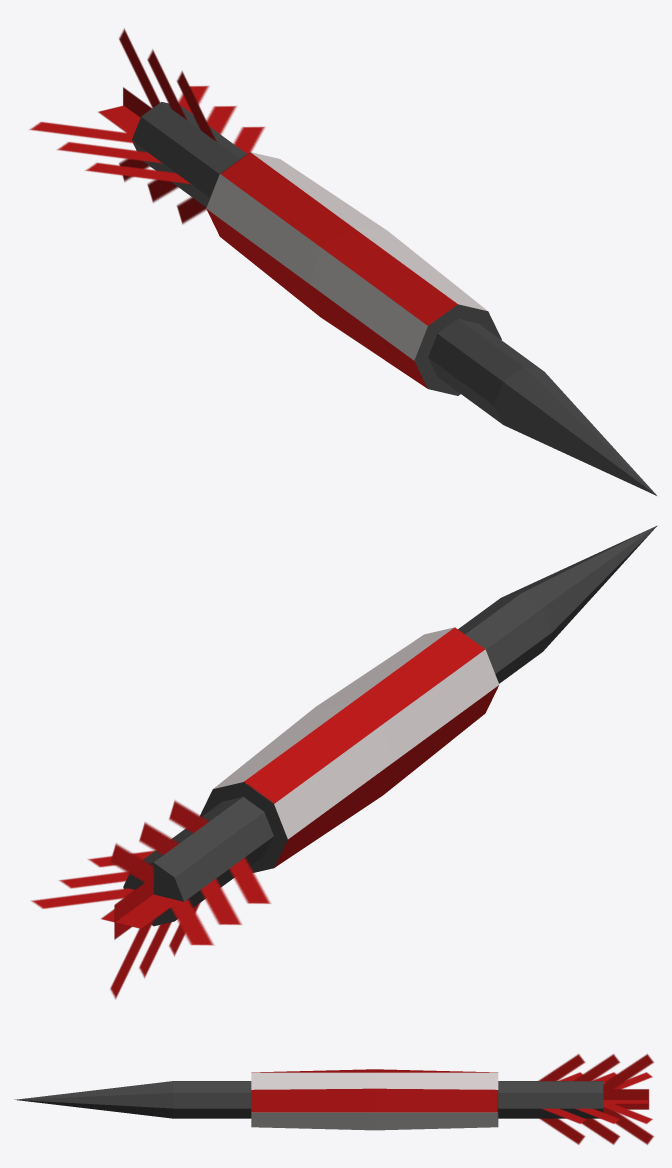
The model's file is Dart.glb.
3 renders of one model, top to bottom at view 1: azimuth 30°, elevation 25°; view 2: azimuth 150°, elevation 25°; view 3: azimuth 270°, elevation 25°, orthographic. The views are drawn at different scales.
Parts seen in each view (by area): view 1: Cube; view 2: Cube; view 3: Cube.
Part boxes in pixels (x1=…): Cube: x1=29, y1=28, x2=656, y2=495; Cube: x1=31, y1=525, x2=657, y2=999; Cube: x1=14, y1=1054, x2=653, y2=1144.
Size of the model in its own units: 0.8846 by 0.7645 by 4.28.
1 material, 1 textured.
